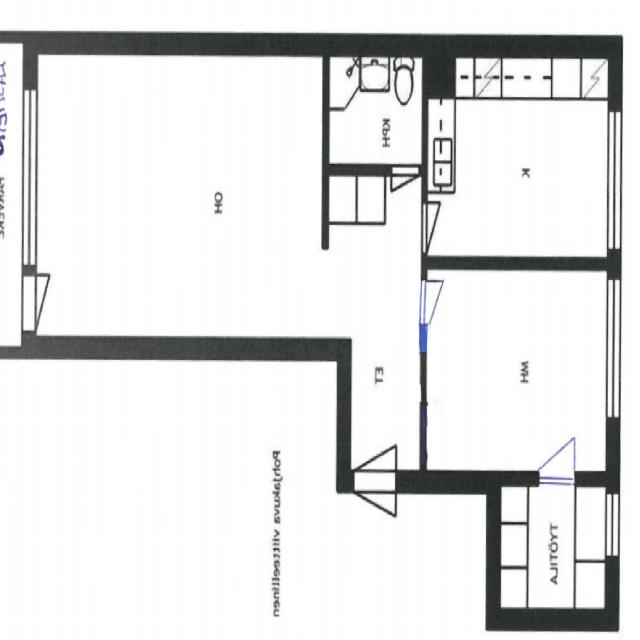door: (354, 470, 396, 560), (354, 403, 396, 493), (23, 274, 73, 331), (539, 413, 575, 487), (419, 202, 458, 252), (419, 280, 457, 328), (391, 164, 418, 218)
